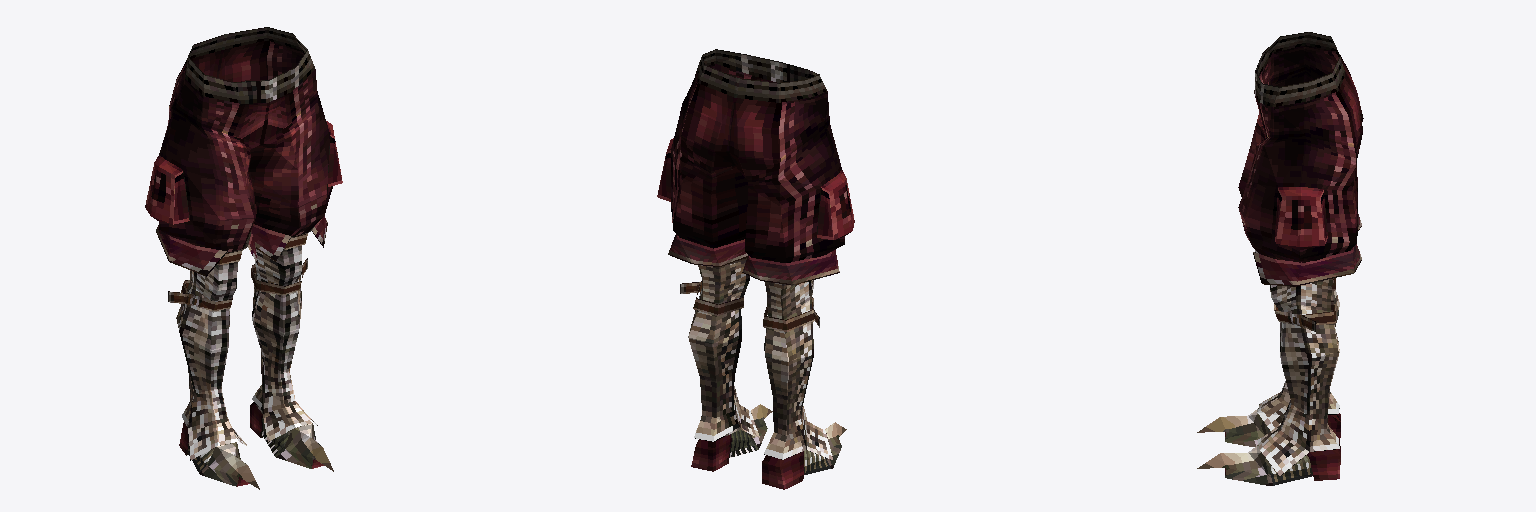
3 renders of one model, left to right at view 1: azimuth 30°, elevation 25°; view 2: azimuth 150°, elevation 25°; view 3: azimuth 270°, elevation 25°, orthographic.
Visible parts, largest first — view 1: mesh00; view 2: mesh00; view 3: mesh00.
Boxes of the visible parts, x1=… form: mesh00: x1=145, y1=27, x2=342, y2=489; mesh00: x1=657, y1=49, x2=854, y2=489; mesh00: x1=1197, y1=32, x2=1363, y2=485.
Bounding box in the file's own units: 54.4 × 110 × 41.47.
1 materials, 1 textured.